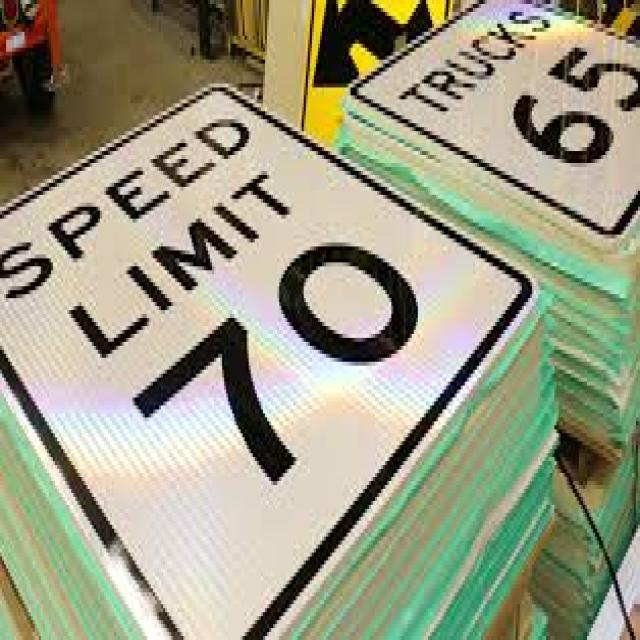speedLimit70: (9, 86, 541, 618)
